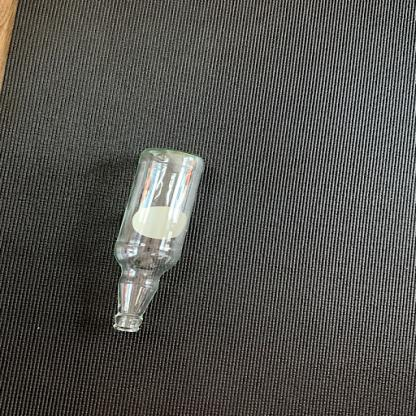trash: (98, 146, 216, 342)
